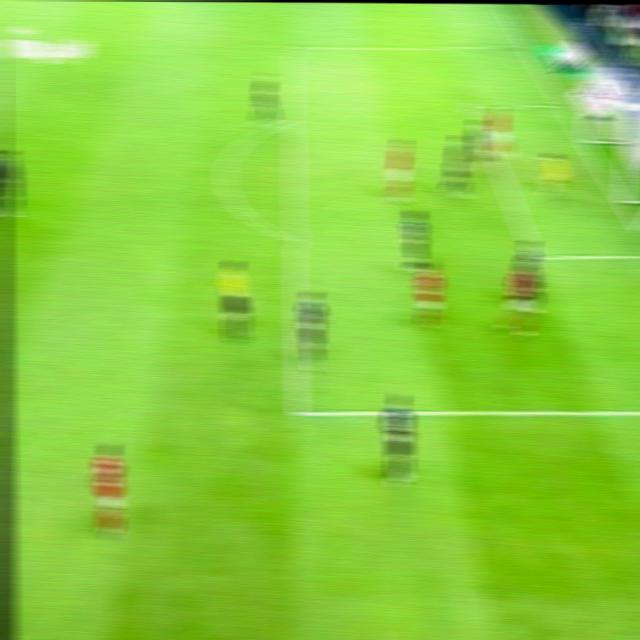bigarea_bottom_inner: (275, 391, 320, 429)
bigarea_top_inner: (284, 40, 301, 56)
bigarea_top_outter: (513, 38, 536, 53)
bottom_arc_area_intersection: (286, 231, 304, 247)
smallarea_bottom_inner: (526, 249, 543, 264)
smallarea_top_inner: (459, 97, 486, 117)
smallarea_top_outter: (554, 96, 574, 112)
top_arc_area_intersection: (284, 115, 300, 128)
